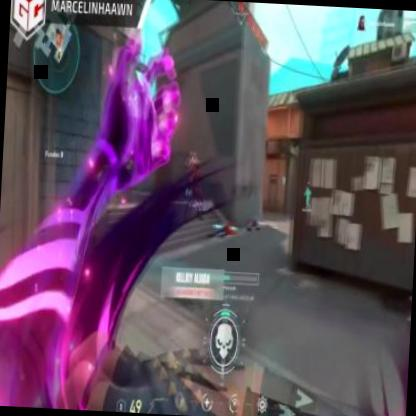enemy: (184, 150, 206, 223), (118, 145, 134, 200)
enemy_head: (189, 151, 197, 161), (125, 146, 130, 156)
